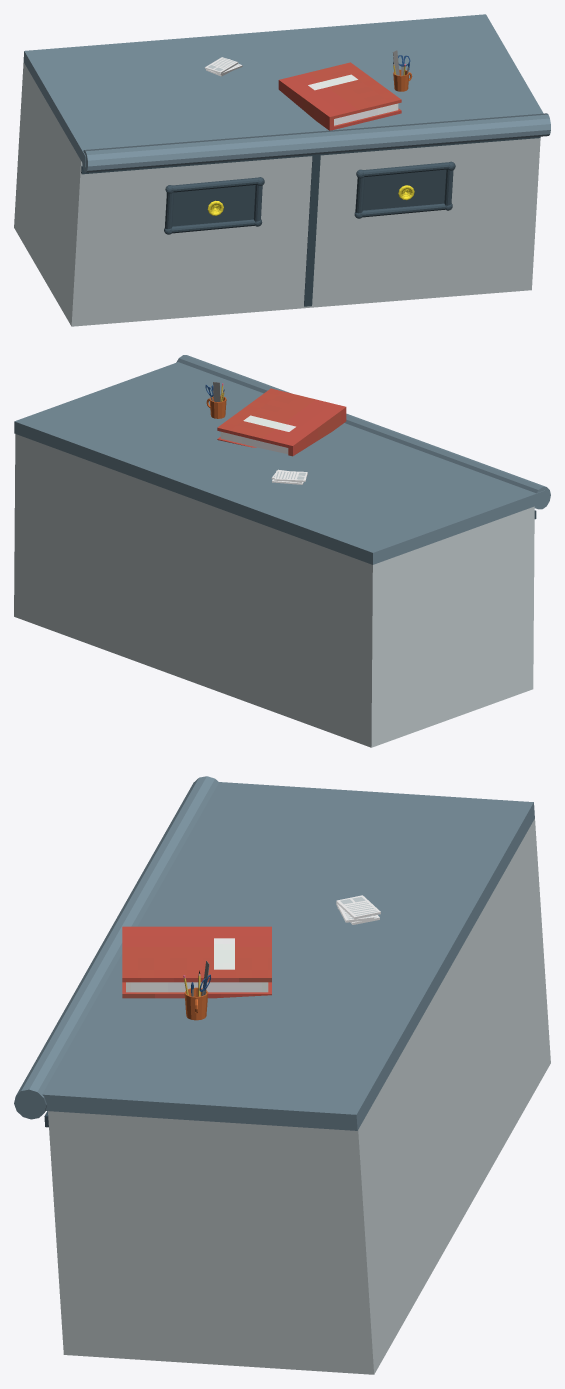
Rendered from reception_lvl1.glb.
3 views of the same model, one above another, from view 1: azimuth 30°, elevation 25°; view 2: azimuth 150°, elevation 25°; view 3: azimuth 270°, elevation 25° (orthographic). The views are drawn at different scales.
Parts seen in each view (by area): view 1: Node, Cube.007_Cube.006, Mug with office tools, Node.001; view 2: Node, Cube.007_Cube.006, Mug with office tools; view 3: Node, Cube.007_Cube.006, Mug with office tools, Node.001.
Boxes of the visible parts, box(x1,y1,x2,y2) form: Node: box(14, 14, 550, 326); Cube.007_Cube.006: box(278, 62, 401, 130); Mug with office tools: box(393, 50, 412, 91); Node.001: box(204, 57, 242, 76); Node: box(14, 355, 550, 747); Cube.007_Cube.006: box(217, 388, 346, 456); Mug with office tools: box(205, 382, 226, 418); Node: box(14, 776, 550, 1374); Cube.007_Cube.006: box(122, 926, 271, 998); Mug with office tools: box(183, 961, 210, 1020); Node.001: box(336, 895, 380, 924).
Size of the model in its own units: 2.53 by 1.19 by 1.76.
9 materials, 3 textured.
